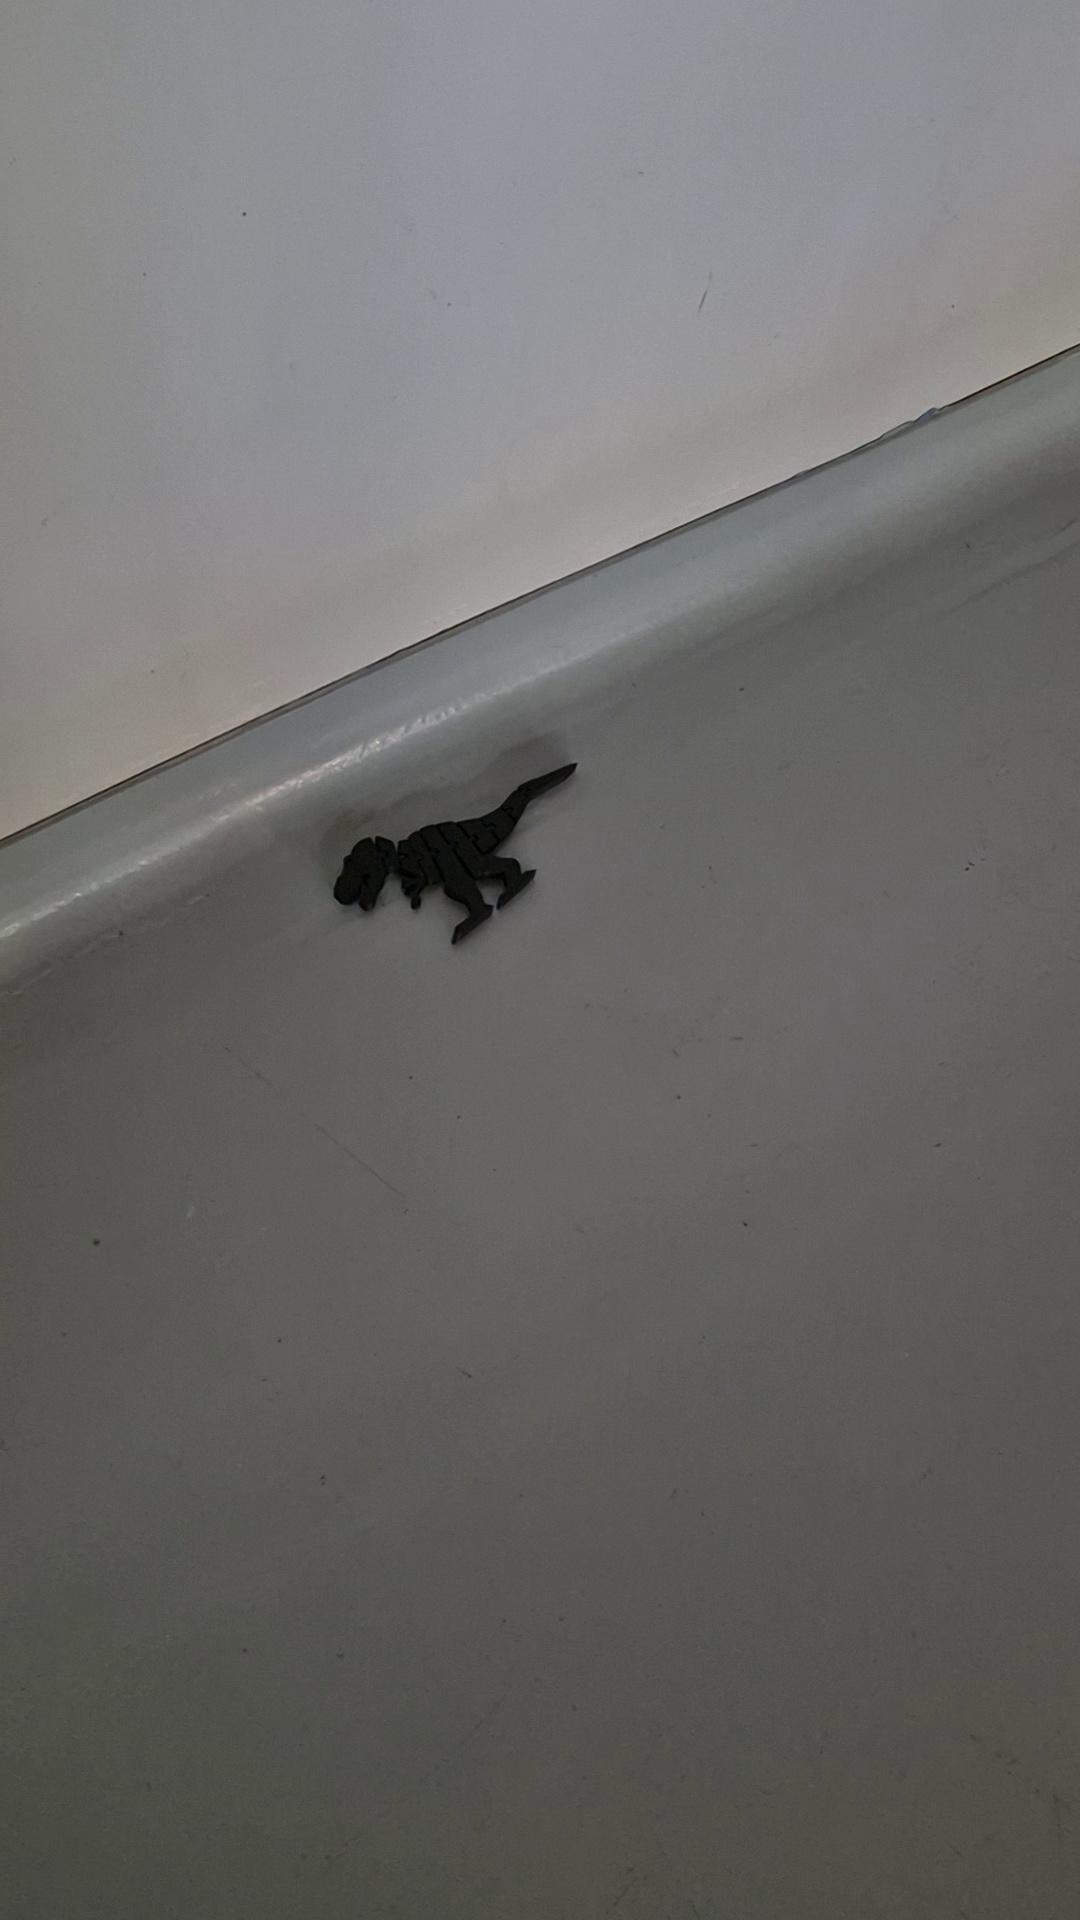dinosaur: (332, 761, 579, 947)
